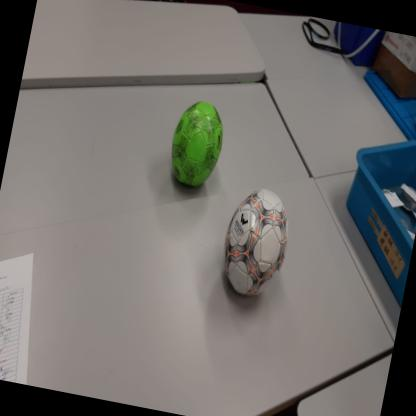ball: (215, 184, 297, 303), (164, 97, 229, 194)
